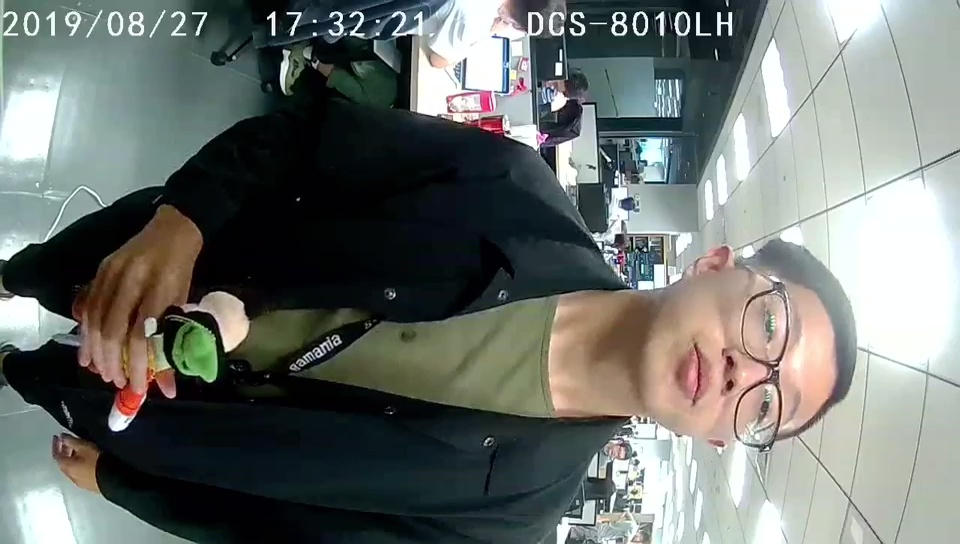goofy: (108, 289, 250, 434)
